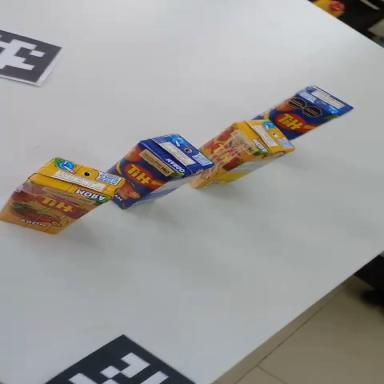HIT-MANGO: (94, 115, 214, 220), (252, 73, 353, 152)
HIT-MORA: (0, 134, 128, 255), (175, 104, 295, 199)
cara_F: (0, 173, 105, 249), (94, 132, 180, 211), (251, 82, 338, 152), (176, 119, 260, 189)
